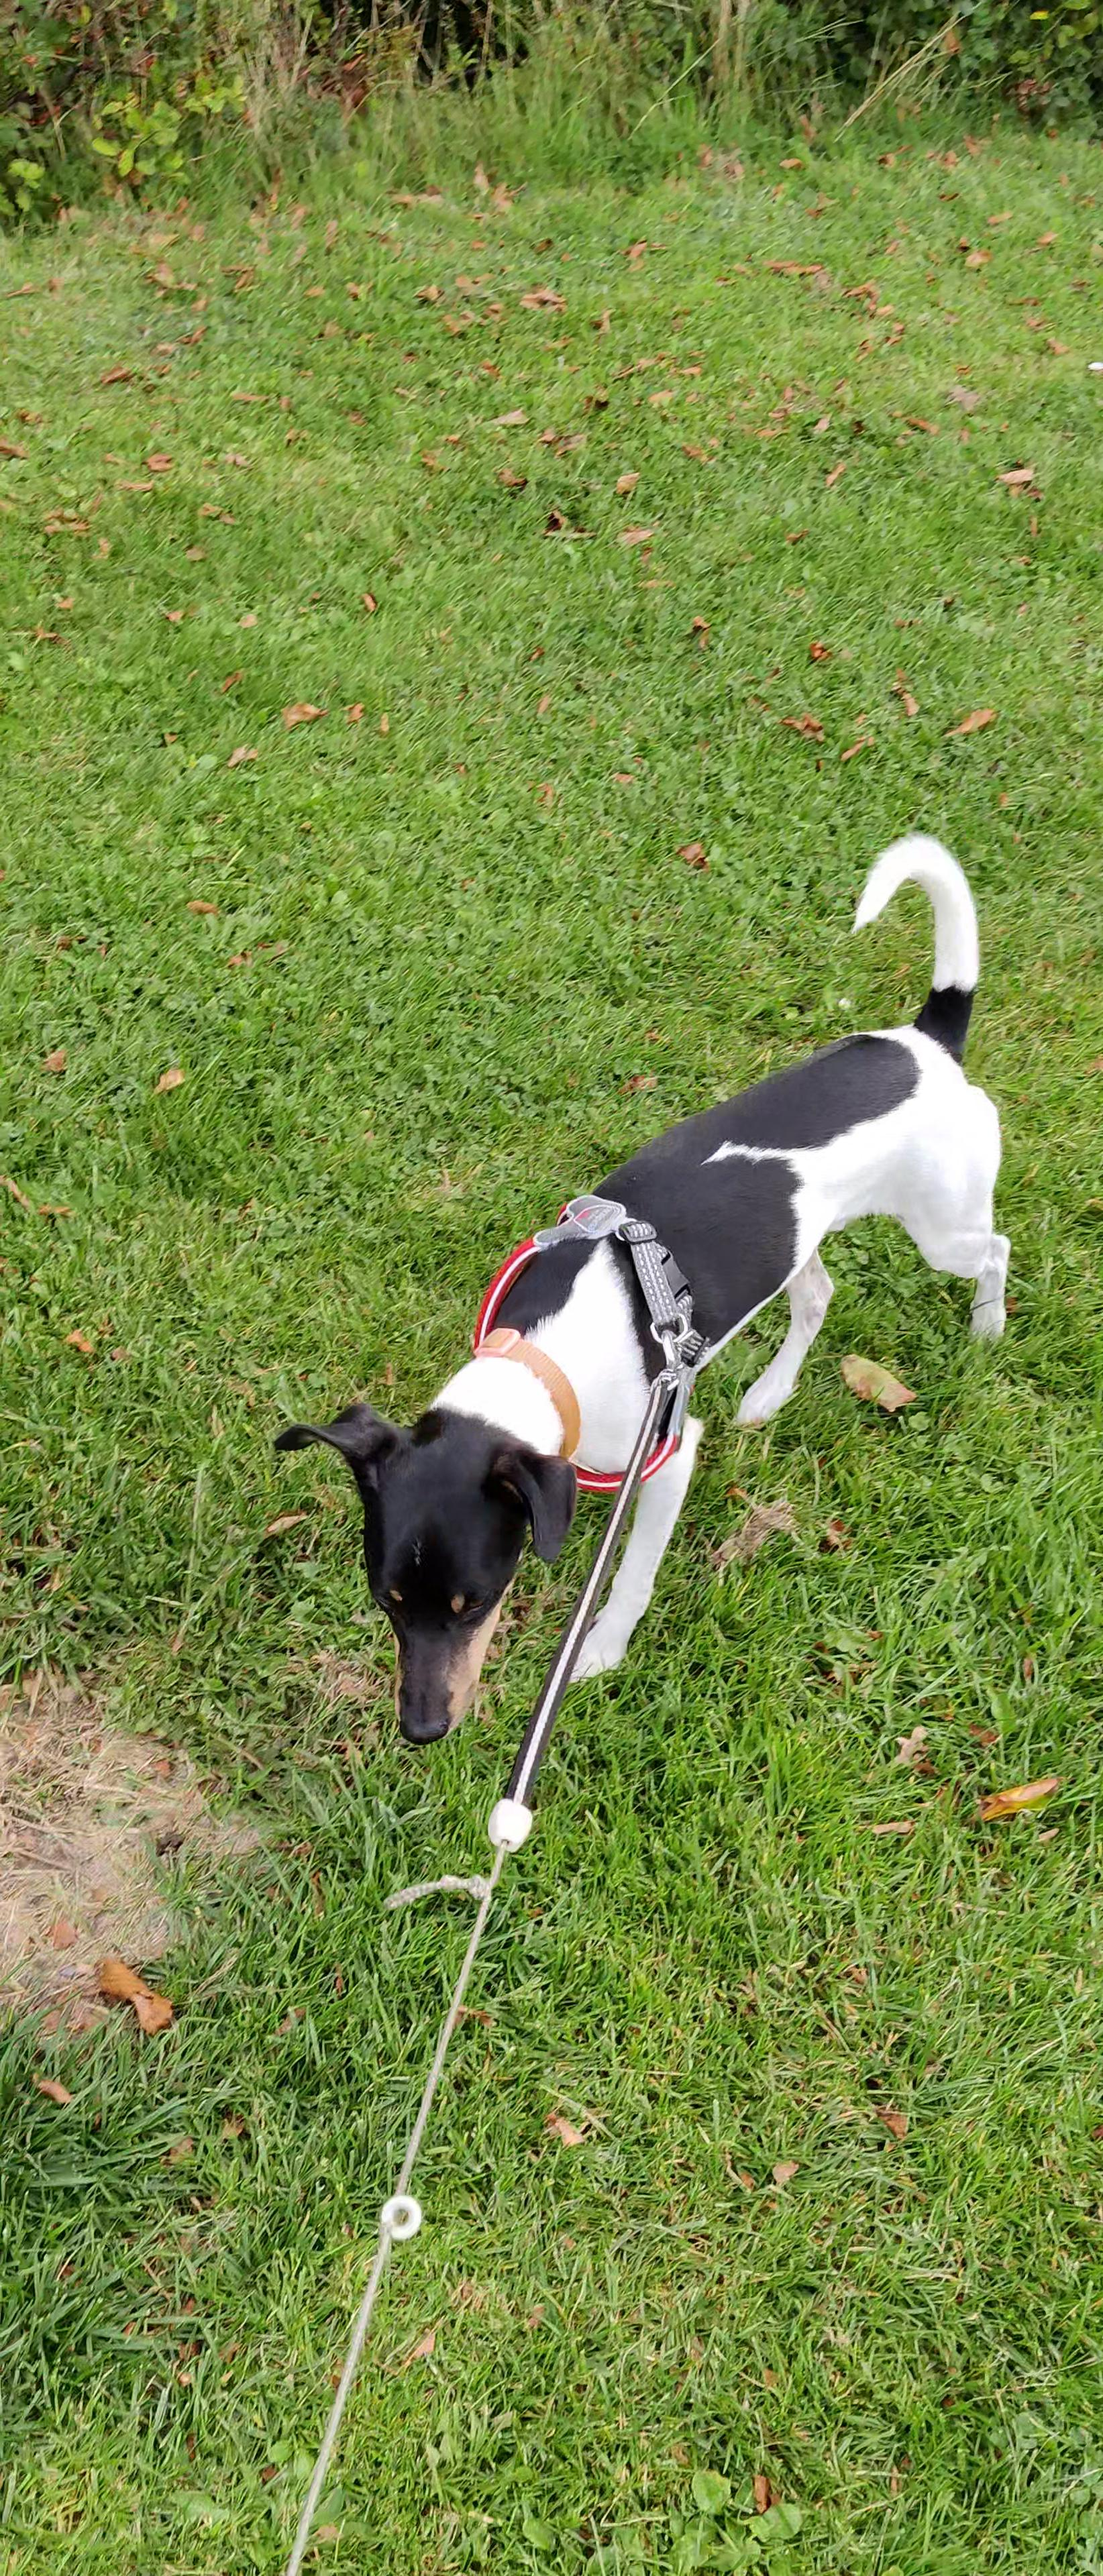Dog: (263, 815, 1018, 1764)
